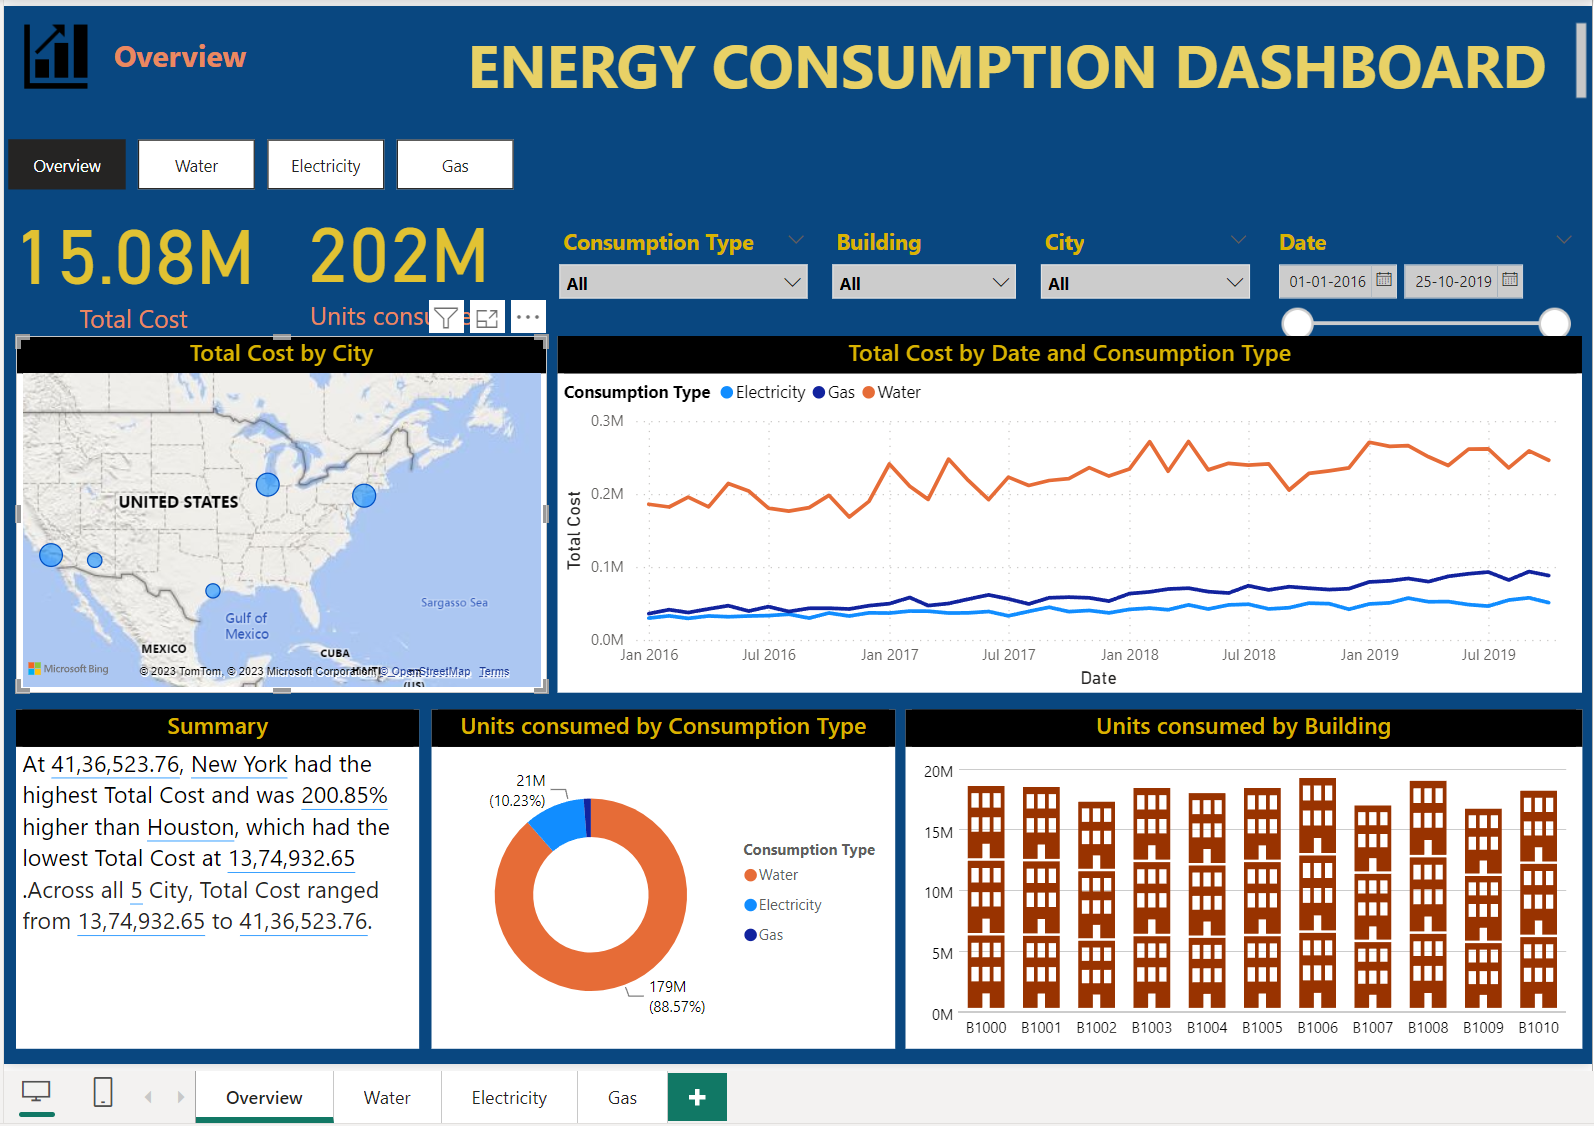

What the dashboard file says about the page in this screenshot:
{"tool":"powerbi","page":{"name":"Overview","canvas":[1277,850],"ordinal":0},"visuals":[{"type":"textbox","box":[343.6,8.4,933,72.3],"z":0},{"type":"textbox","box":[83.2,18.1,161.5,54.2],"z":1000},{"type":"card","fields":{"Values":["Building Master.Total Cost"]},"box":[0,148.3,207.3,116.9],"z":2000},{"type":"card","fields":{"Values":["Energy Consumptions.Units consumed"]},"box":[219.4,148.3,194.1,113.3],"z":3000},{"type":"slicer","fields":{"Values":["Energy Consumptions.Consumption Type"]},"box":[436.4,172.4,219.4,63.9],"z":4000},{"type":"slicer","fields":{"Values":["Energy Consumptions.Building"]},"box":[655.8,172.4,167.6,63.9],"z":5000},{"type":"slicer","fields":{"Values":["Building Master.City"]},"box":[823.3,172.4,188.1,63.9],"z":6000},{"type":"slicer","fields":{"Values":["Energy Consumptions.Date"]},"box":[1011.4,172.4,261.6,157.9],"z":7000},{"type":"map","fields":{"Category":["Building Master.City"],"Size":["Building Master.Total Cost"]},"box":[9.6,265.2,426.7,286.9],"z":8000},{"type":"lineChart","fields":{"Category":["Energy Consumptions.Date"],"Series":["Energy Consumptions.Consumption Type"],"Y":["Building Master.Total Cost"]},"box":[444.8,265.2,823.3,286.9],"z":9000},{"type":"textbox","title":"Summary","box":[9.6,565.4,324.3,272.4],"z":10000},{"type":"donutChart","fields":{"Category":["Energy Consumptions.Consumption Type"],"Y":["Energy Consumptions.Units consumed"]},"box":[343.6,565.4,372.5,272.4],"z":11000},{"type":"PBI_CV_73744D90_4DC9_4F18_8BA5_EE8FA5C98035","fields":{"Values":["Energy Consumptions.Units consumed"],"Category":["Building Master.Building"]},"box":[724.5,565.4,543.7,272.4],"z":12000},{"type":"pageNavigator","box":[3.6,107.3,406.2,41],"z":13000},{"type":"image","box":[0,0,83.2,80.8],"z":14000}]}

Visuals, with their boxes on the page's 1277x850 design canvas (x1, y1, x2, y2). These are canvas units, not pixel positions in the 1594x1126 screenshot, which may show the page scaled, cropped or inside an application window:
textbox: detection(344, 8, 1277, 81)
textbox: detection(83, 18, 245, 72)
card - Building Master.Total Cost: detection(0, 148, 207, 265)
card - Energy Consumptions.Units consumed: detection(219, 148, 414, 262)
slicer - Energy Consumptions.Consumption Type: detection(436, 172, 656, 236)
slicer - Energy Consumptions.Building: detection(656, 172, 823, 236)
slicer - Building Master.City: detection(823, 172, 1011, 236)
slicer - Energy Consumptions.Date: detection(1011, 172, 1273, 330)
map - Building Master.City x Building Master.Total Cost: detection(10, 265, 436, 552)
lineChart - Energy Consumptions.Date x Energy Consumptions.Consumption Type: detection(445, 265, 1268, 552)
"Summary" textbox: detection(10, 565, 334, 838)
donutChart - Energy Consumptions.Consumption Type x Energy Consumptions.Units consumed: detection(344, 565, 716, 838)
PBI_CV_73744D90_4DC9_4F18_8BA5_EE8FA5C98035 - Energy Consumptions.Units consumed x Building Master.Building: detection(724, 565, 1268, 838)
pageNavigator: detection(4, 107, 410, 148)
image: detection(0, 0, 83, 81)
